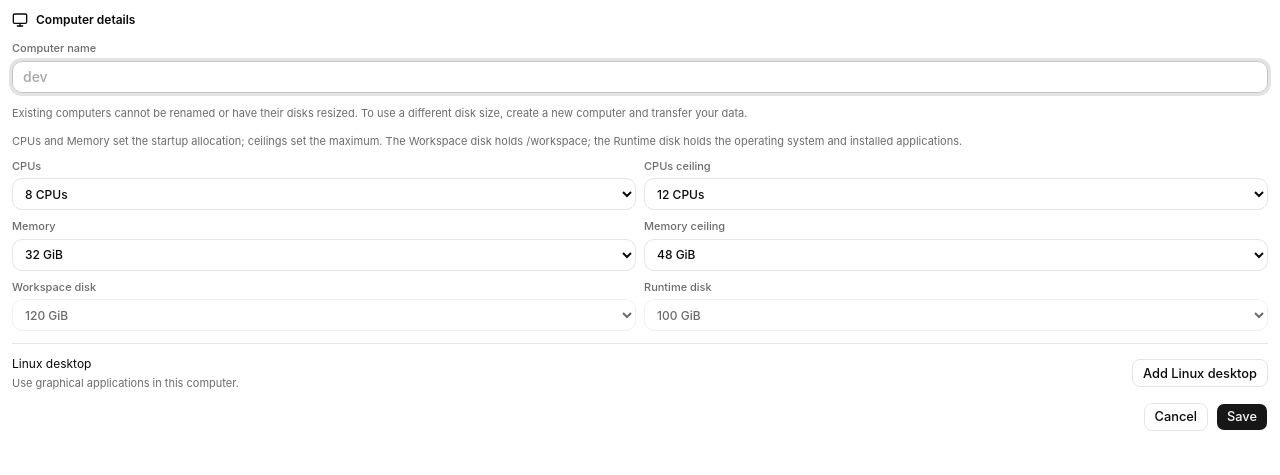
configuration editor validation › shows a form error when retained configuration fields cannot be submitted
Click the button "Save".
click(1242, 417)  # box [1216,403,1268,431]
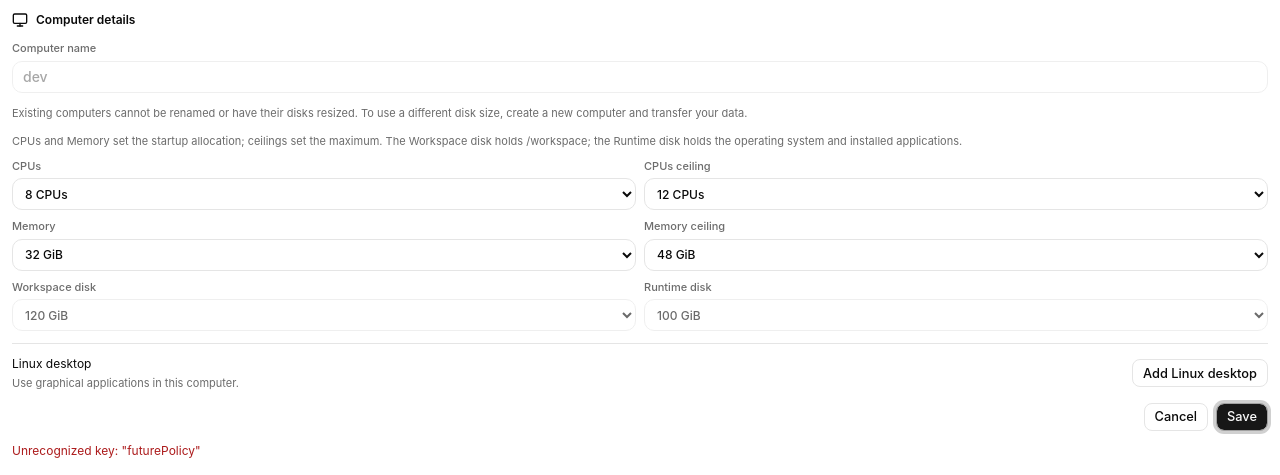
Now the message shows "futurePolicy", box [12,443,201,458]
